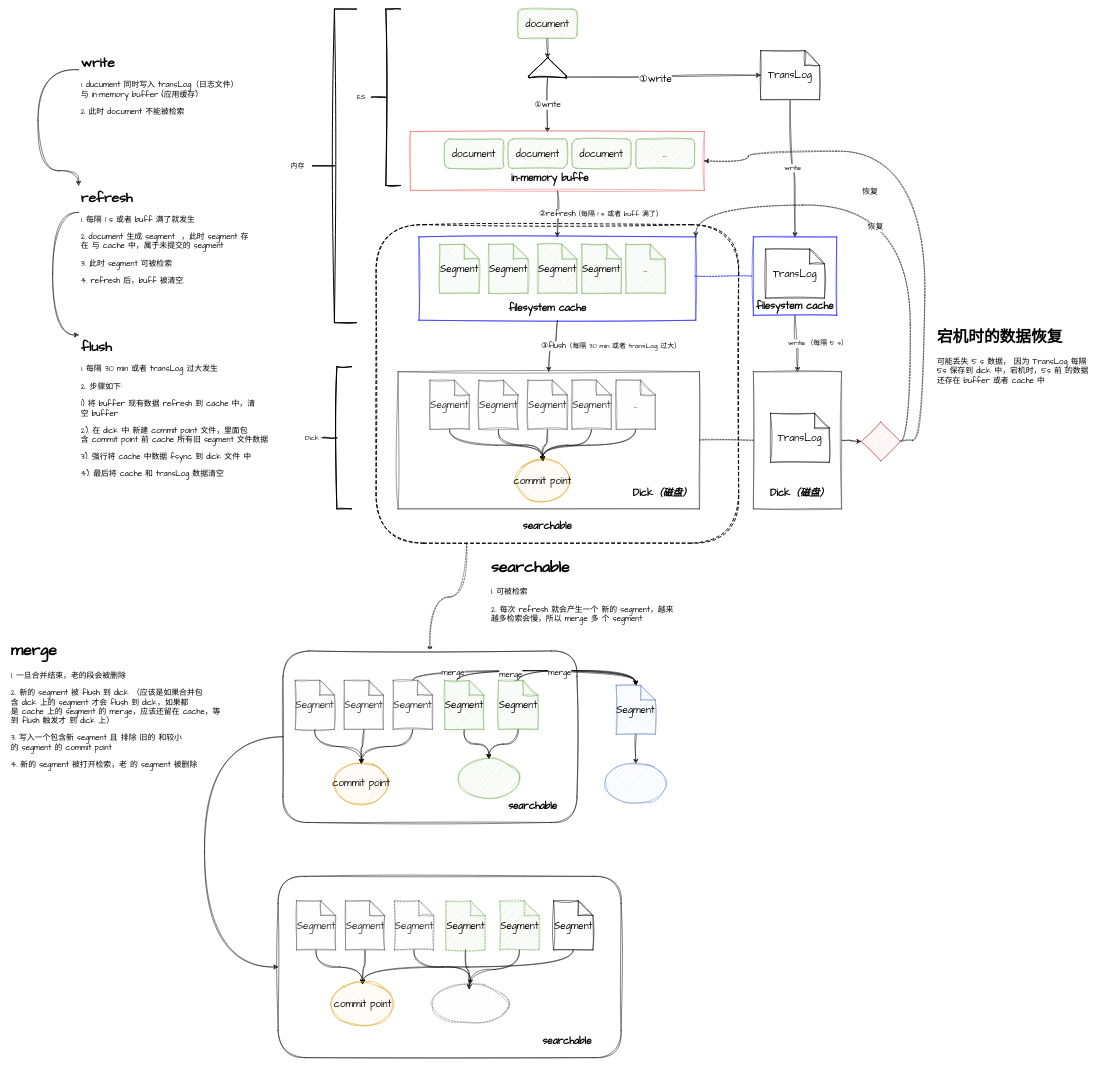
This 1104x1066 diagram has some shape labels left out. Here are the shapes that lost their labels. From the top down, the centre of each, then its label:
At pixel 547 67: "同时".
At pixel 880 441: "宕机".
At pixel 488 778: "未提交 的 segment".
At pixel 635 783: "合并的segment".
At pixel 470 1003: "delete 的 segment".
